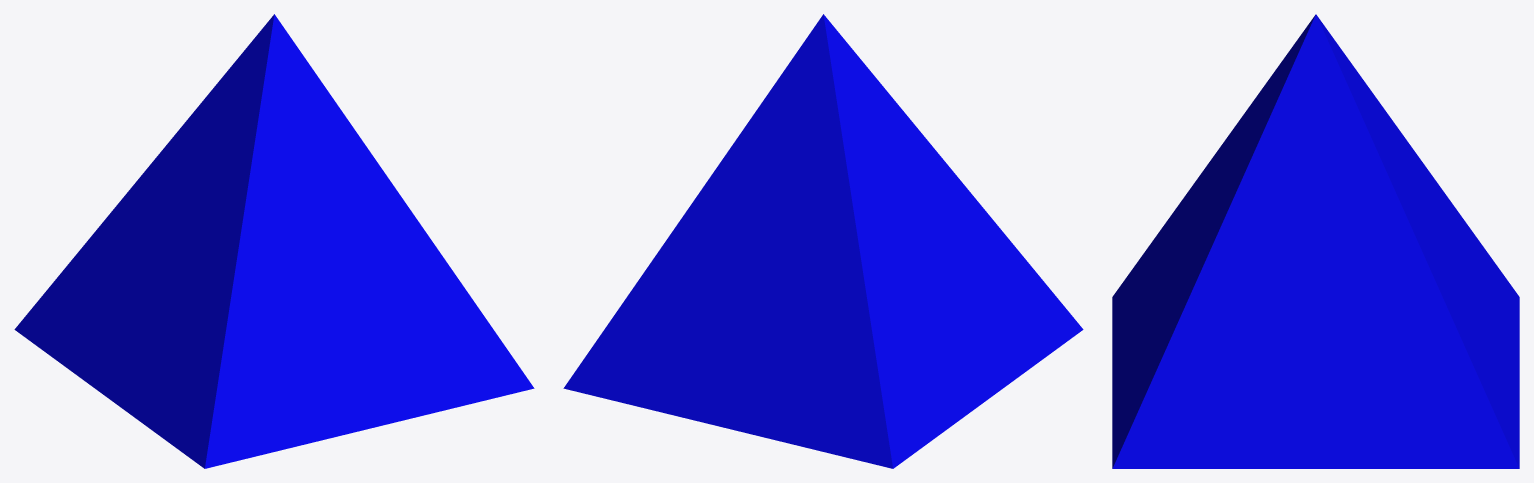
File: Vertices_Piramide.glb
The picture shows the model from 3 angles, left to right: view 1: azimuth 30°, elevation 25°; view 2: azimuth 150°, elevation 25°; view 3: azimuth 270°, elevation 25°; orthographic projection. The views are drawn at different scales.
Visible parts, largest first — view 1: Pyramid002; view 2: Pyramid002; view 3: Pyramid002.
Part boxes in pixels (x1,y1,x2,y2): Pyramid002: [14, 14, 534, 468]; Pyramid002: [563, 14, 1083, 468]; Pyramid002: [1112, 14, 1519, 468].
Size of the model in its own units: 0.635 by 0.635 by 0.635.
